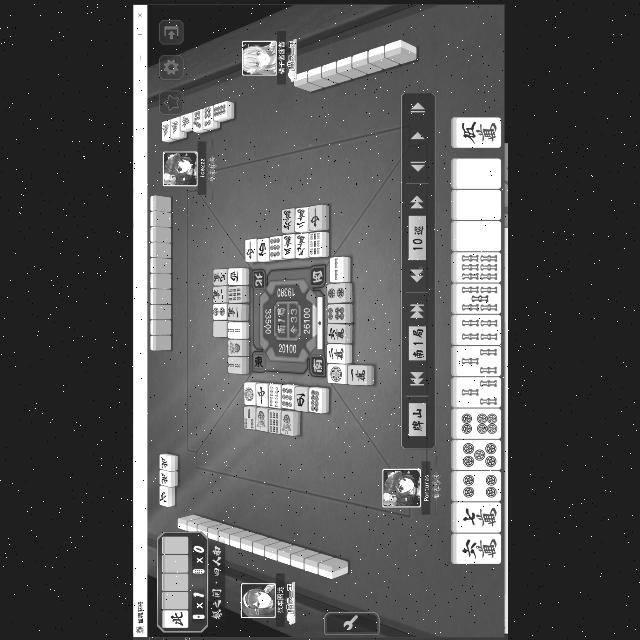1m: (346, 364, 369, 386), (224, 302, 246, 320), (210, 284, 228, 300)
1p: (323, 363, 347, 383), (242, 378, 256, 406)
1s: (280, 408, 298, 437), (252, 404, 268, 430), (222, 338, 244, 356)
2m: (324, 342, 348, 362), (293, 204, 309, 232)
2p: (322, 283, 350, 303), (208, 300, 226, 320)
2s: (325, 252, 347, 282), (224, 356, 248, 374), (226, 320, 248, 338)
3m: (281, 232, 293, 256)
3s: (448, 375, 502, 407), (452, 344, 500, 374), (236, 403, 258, 433)
4p: (448, 469, 502, 501)
4s: (449, 313, 503, 345), (266, 382, 280, 406)
5m: (452, 110, 502, 152)
5p: (450, 438, 502, 468)
5s: (446, 280, 500, 318)
6m: (452, 535, 502, 561), (322, 323, 356, 343), (280, 204, 292, 232)
6p: (450, 409, 504, 437), (324, 303, 350, 323), (201, 102, 213, 134)
6s: (449, 250, 501, 282)
7m: (448, 502, 504, 534)
7p: (190, 105, 202, 133)
8p: (210, 98, 233, 122), (306, 388, 324, 412)
9m: (208, 265, 230, 283), (294, 232, 308, 256)
9p: (278, 382, 292, 410), (269, 234, 279, 258)
9s: (263, 406, 281, 436), (225, 285, 248, 301), (308, 232, 322, 258)
chun: (307, 205, 327, 228), (241, 234, 257, 260), (254, 381, 268, 407)
haku: (448, 154, 499, 190), (450, 220, 502, 252), (450, 186, 502, 218), (210, 319, 230, 339)
hatsu: (158, 114, 170, 144), (177, 108, 191, 130), (172, 114, 180, 138)
pe: (162, 608, 188, 626), (153, 448, 174, 469), (154, 486, 172, 508), (156, 470, 178, 486)
sha: (291, 384, 309, 412), (227, 264, 246, 286), (255, 235, 268, 259)
